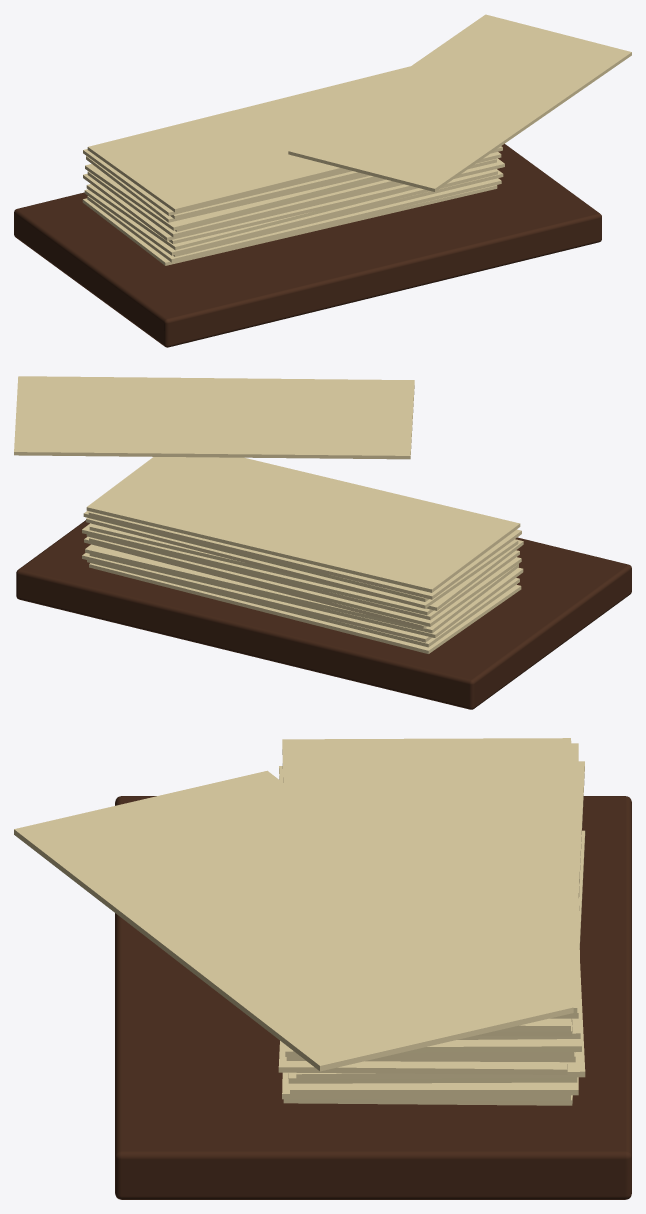
3 views of the same model, one above another, from view 1: azimuth 30°, elevation 25°; view 2: azimuth 150°, elevation 25°; view 3: azimuth 270°, elevation 25° (orthographic). The views are drawn at different scales.
Bounding box in the file's own units: 0.6743 × 0.152 × 0.4065.
